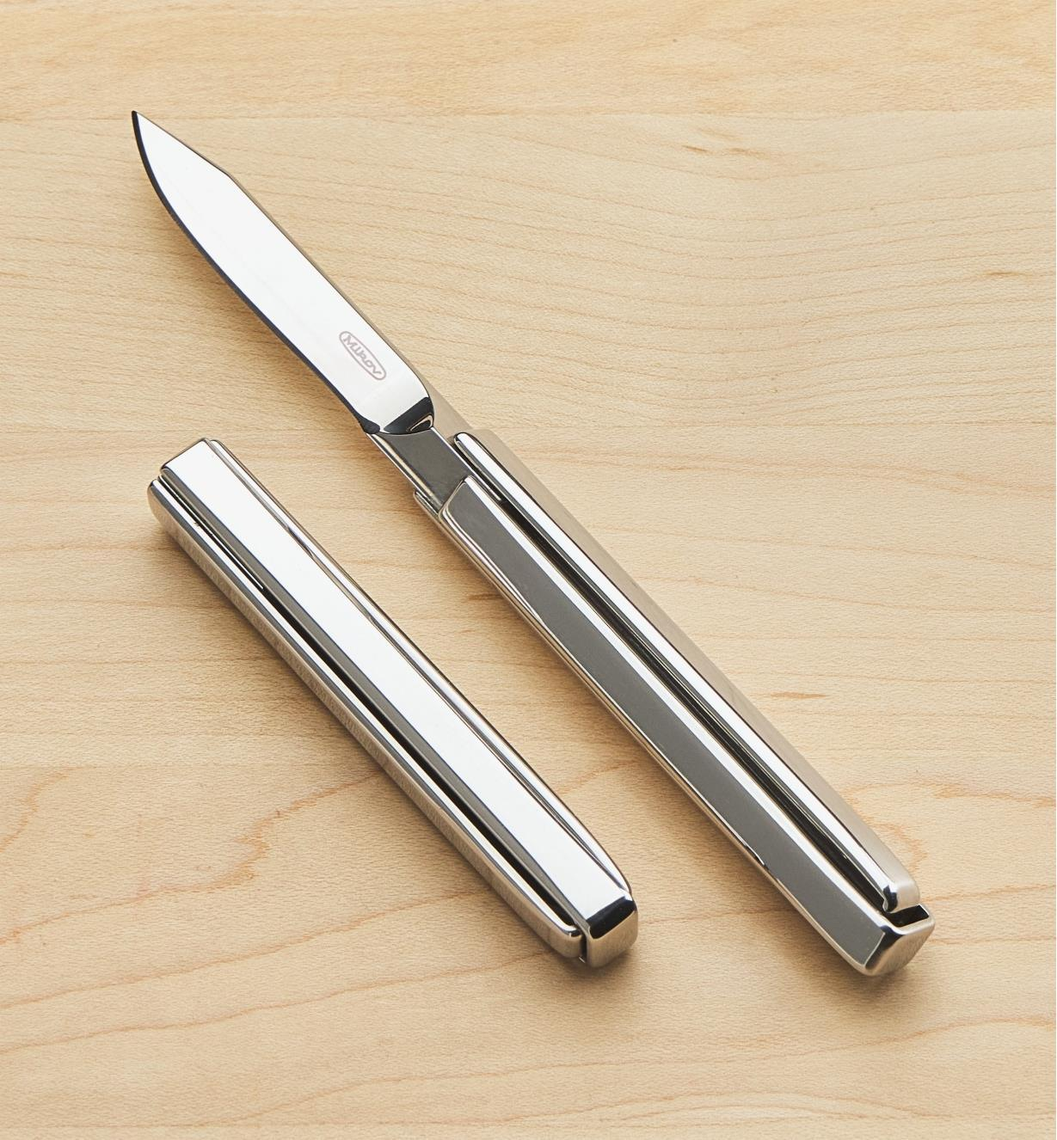Knife: (129, 107, 937, 979)
